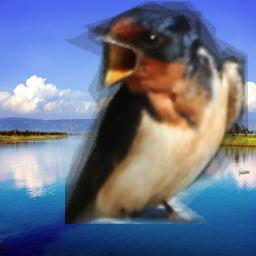Swallow: (65, 1, 248, 224)
